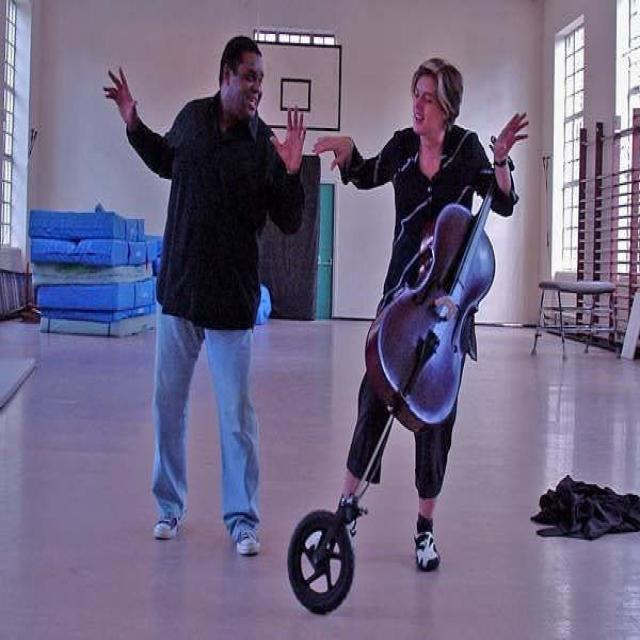cello: (362, 130, 523, 434)
